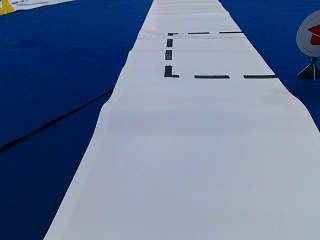school: (296, 10, 319, 55)
